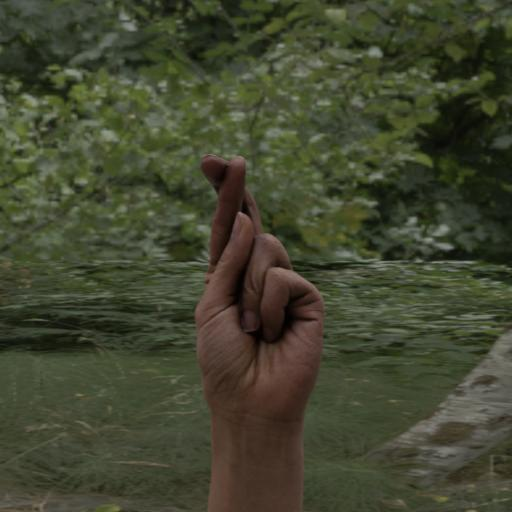R: (170, 127, 348, 435)
